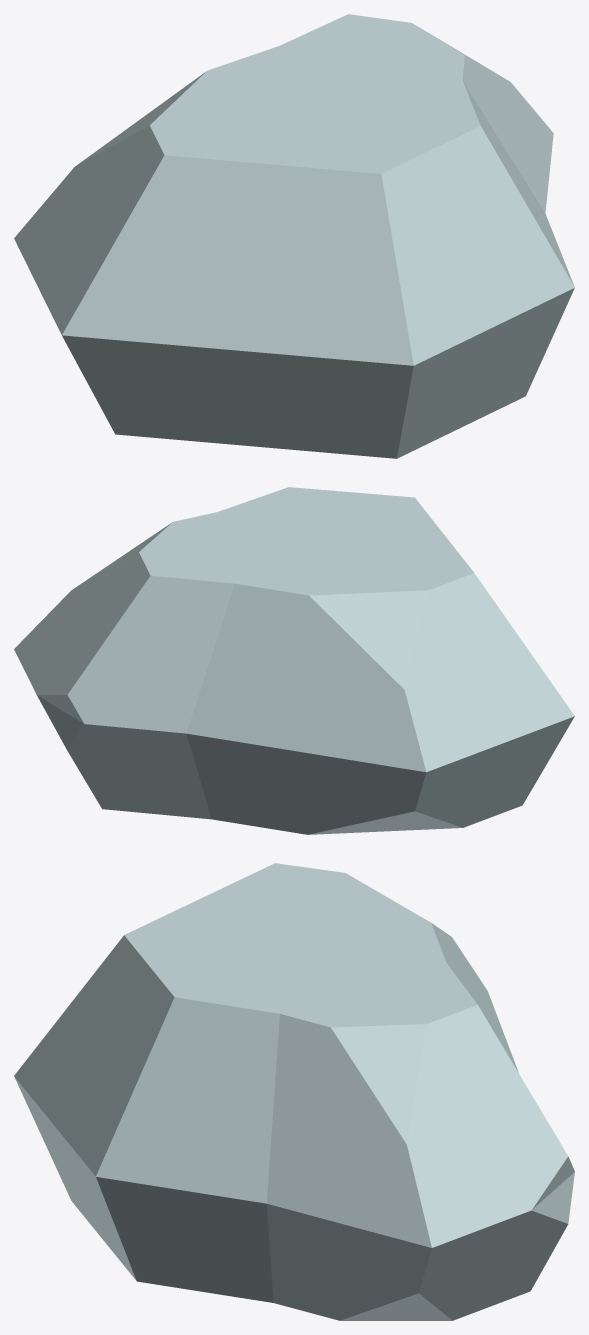
The model's file is stone_largeF.gltf.
The picture shows the model from 3 angles, top to bottom: view 1: azimuth 30°, elevation 25°; view 2: azimuth 150°, elevation 25°; view 3: azimuth 270°, elevation 25°; orthographic projection. The views are drawn at different scales.
Visible parts, largest first — view 1: stone_largeF; view 2: stone_largeF; view 3: stone_largeF.
Boxes of the visible parts, left/top/right/bottom form: stone_largeF: left=14, top=14, right=574, bottom=458; stone_largeF: left=14, top=487, right=574, bottom=834; stone_largeF: left=14, top=863, right=574, bottom=1320.
Bounding box in the file's own units: 1.1 × 0.479 × 0.899.
